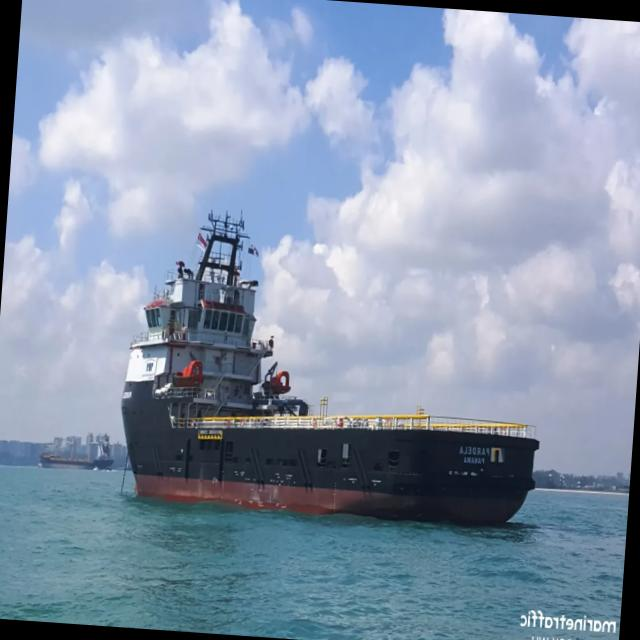Offshore: (120, 213, 539, 524)
